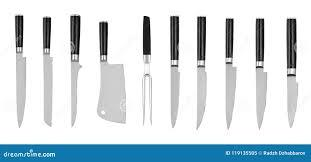Knife: (96, 20, 126, 123), (14, 14, 26, 127), (69, 13, 81, 126), (255, 17, 266, 129), (224, 17, 235, 129), (286, 17, 297, 127), (141, 15, 152, 125), (196, 15, 206, 129), (169, 15, 179, 127), (42, 15, 52, 126)
